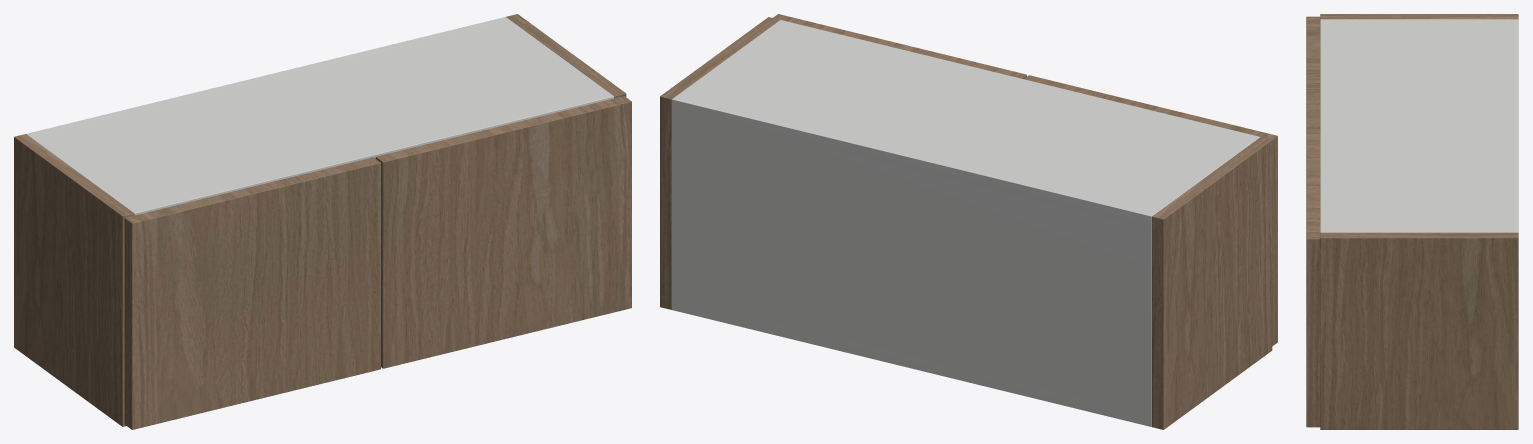
File: oppein-pb-mnw-w3012.glb
3 renders of one model, left to right at view 1: azimuth 30°, elevation 25°; view 2: azimuth 150°, elevation 25°; view 3: azimuth 270°, elevation 25°, orthographic. The views are drawn at different scales.
Visible parts, largest first — view 1: Door, Door.001, Cabinet top, Cabinet side, Cabinet back, Cabinet side.001; view 2: Cabinet back, Cabinet top, Cabinet side, Cabinet bottom, Cabinet side.001, Door, Door.001; view 3: Cabinet top, Cabinet side.001, Door.001, Cabinet back, Door, Cabinet side.
Part boxes in pixels (x1,y1,x2,y2): Door: (124,157,380,429); Door.001: (375,96,631,368); Cabinet top: (30,17,614,215); Cabinet side: (14,134,134,426); Cabinet back: (26,17,509,136); Cabinet side.001: (506,14,626,98); Cabinet back: (672,96,1155,426); Cabinet top: (673,20,1259,228); Cabinet side: (1152,137,1272,429); Cabinet bottom: (672,298,1151,426); Cabinet side.001: (660,17,779,309); Door: (1024,75,1277,346); Door.001: (773,14,1026,78); Cabinet top: (1320,19,1517,232); Cabinet side.001: (1320,232,1518,429); Door.001: (1306,128,1320,427); Cabinet back: (1510,19,1518,232); Door: (1306,16,1320,128); Cabinet side: (1320,14,1518,19).
Bounding box in the file's own units: 0.762 × 0.3048 × 0.3048.
2 materials, 1 textured.
